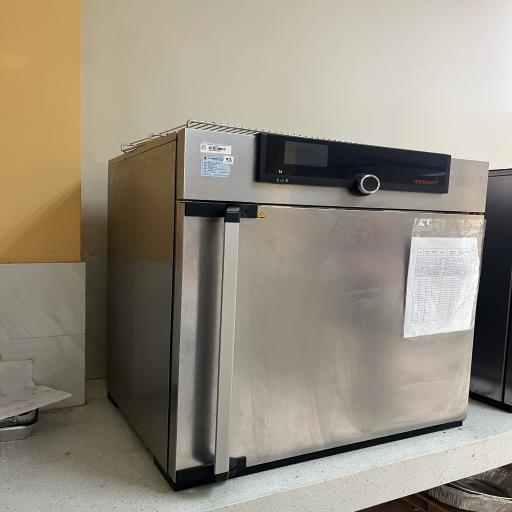Memmert_Unidad2: (94, 114, 499, 494)
